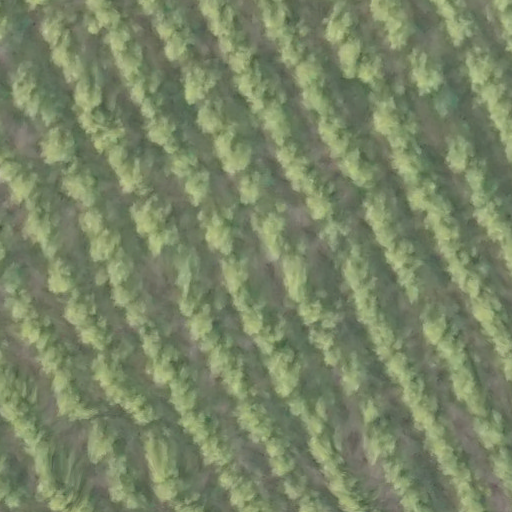eucalipto: (181, 55, 230, 109), (232, 164, 280, 213), (213, 125, 255, 173), (266, 343, 305, 392), (49, 256, 91, 296), (130, 194, 174, 232), (40, 128, 82, 166), (286, 395, 330, 431), (62, 161, 100, 202), (279, 256, 315, 299), (299, 294, 344, 328), (208, 216, 247, 254), (21, 207, 60, 245), (347, 152, 384, 191), (50, 42, 87, 81), (410, 54, 446, 94), (277, 23, 313, 63), (68, 77, 107, 113), (183, 169, 218, 208), (336, 35, 369, 76), (341, 249, 374, 290), (443, 132, 479, 169), (91, 354, 128, 390), (323, 118, 358, 156), (160, 28, 199, 62), (16, 67, 45, 112), (146, 116, 182, 152), (208, 339, 244, 375), (302, 84, 337, 120), (308, 183, 342, 220), (198, 99, 235, 133), (361, 429, 400, 461), (183, 409, 218, 444), (336, 359, 372, 393), (123, 390, 157, 426), (410, 181, 447, 214), (88, 226, 125, 259), (220, 256, 252, 294), (11, 167, 42, 206), (86, 1, 121, 35), (148, 350, 184, 383), (145, 223, 182, 255), (260, 101, 294, 135), (235, 302, 268, 337), (22, 309, 55, 344), (66, 292, 100, 325), (385, 10, 417, 45), (373, 101, 409, 132), (168, 375, 197, 413), (78, 201, 110, 235), (105, 252, 140, 283), (112, 278, 145, 310), (428, 87, 460, 120), (165, 149, 201, 178), (93, 127, 131, 154), (420, 418, 452, 450), (386, 240, 420, 270), (311, 431, 342, 463), (400, 154, 430, 187), (116, 51, 146, 84), (184, 311, 218, 340), (259, 216, 290, 247), (444, 16, 476, 46), (422, 311, 452, 342), (107, 24, 135, 57), (264, 433, 297, 460), (465, 158, 493, 189), (412, 399, 443, 427), (143, 325, 172, 354), (238, 400, 268, 428), (309, 328, 337, 353), (359, 395, 386, 420)
